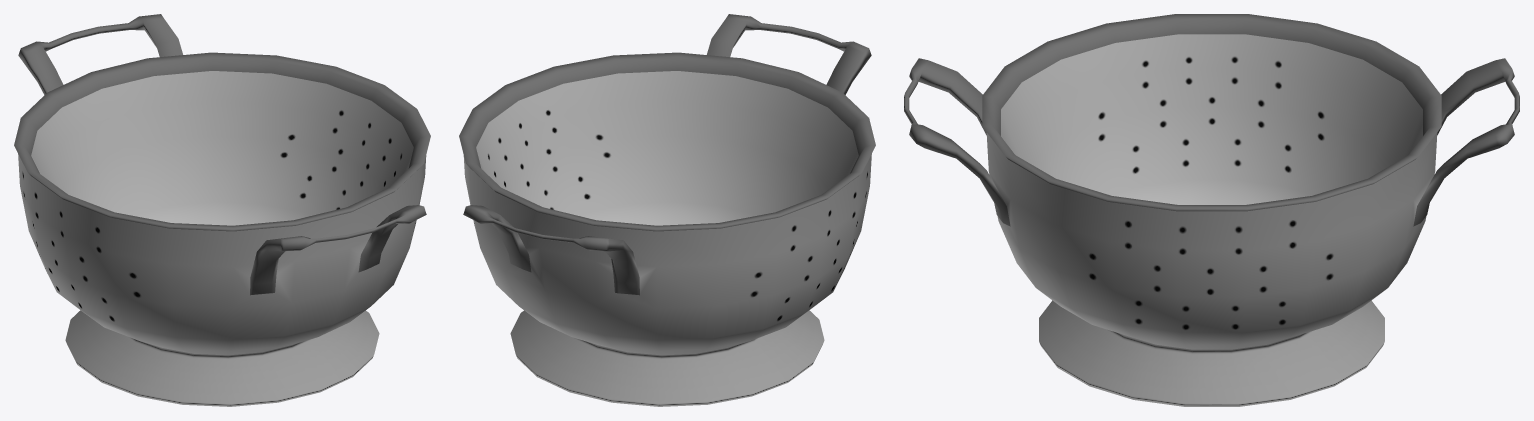
The model's file is Drainer_MDL.fbx.
3 views of the same model, side by side, from view 1: azimuth 30°, elevation 25°; view 2: azimuth 150°, elevation 25°; view 3: azimuth 270°, elevation 25° (orthographic). The views are drawn at different scales.
Visible parts, largest first — view 1: drainer; view 2: drainer; view 3: drainer.
Part boxes in pixels (x1,y1,x2,y2): drainer: (14, 14, 430, 406); drainer: (459, 14, 875, 406); drainer: (904, 14, 1519, 406).
Size of the model in its own units: 19.82 by 11.35 by 26.56.
